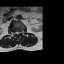CCS_normal: (16, 30, 18, 36)
LFS_severe_stenosis: (19, 30, 21, 33)
LLS_normal: (18, 30, 19, 35)
RFS_stenosis: (13, 30, 15, 34)
RLS_normal: (15, 30, 16, 35)
